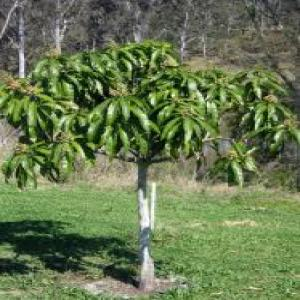Tree: (5, 37, 292, 289)
